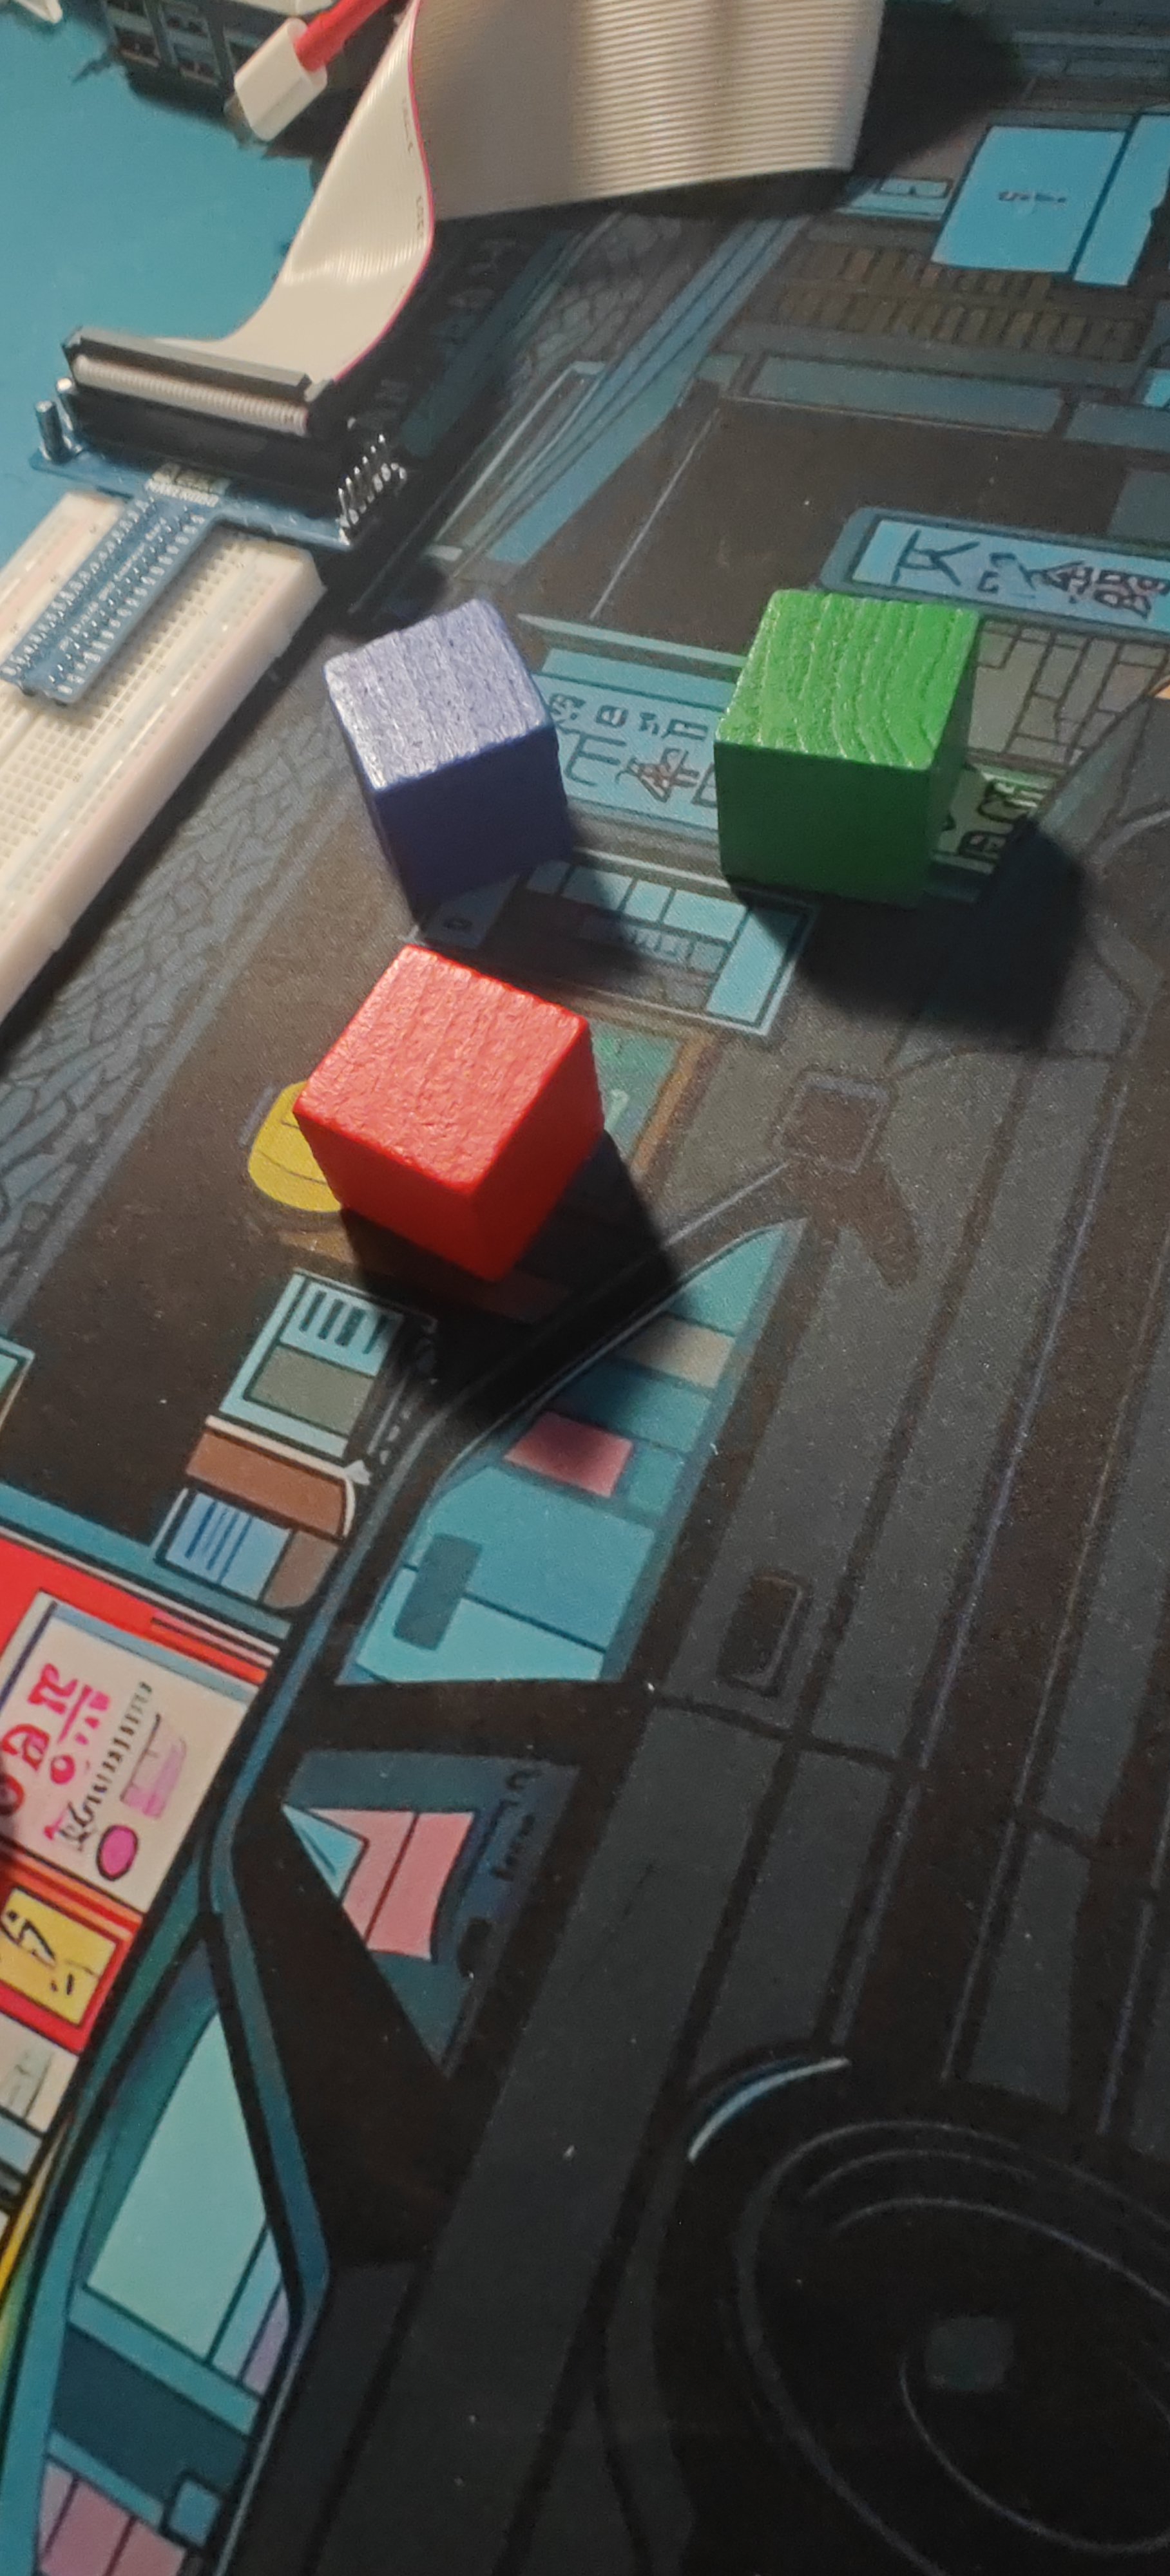blue bolck: (309, 596, 578, 907)
green block: (710, 577, 986, 915)
red blcok: (288, 935, 610, 1288)
